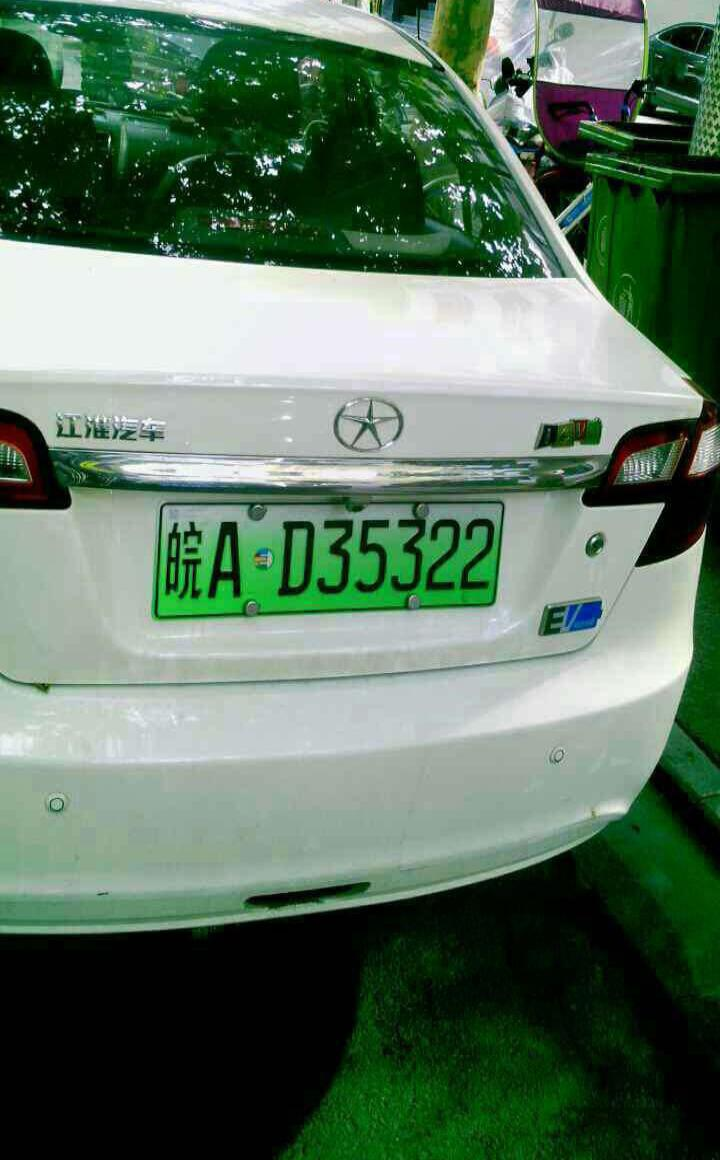car_id: (157, 502, 505, 618)
